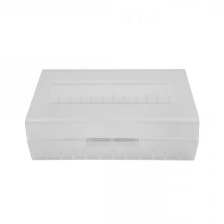plastic_box: (19, 57, 206, 169)
